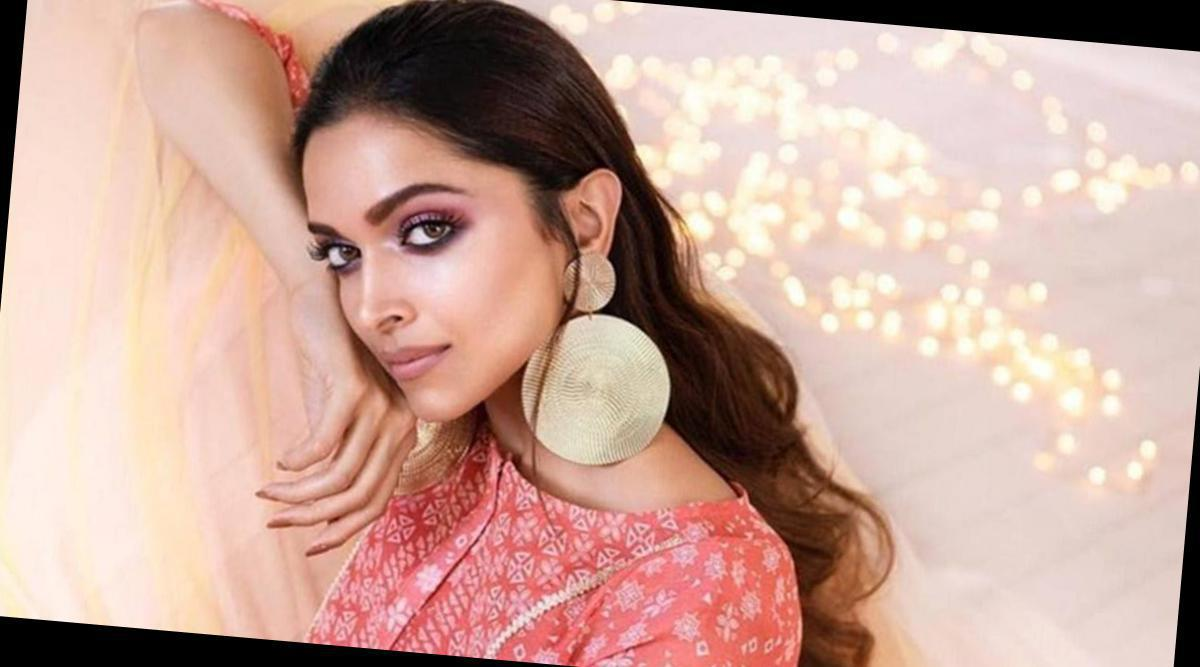Sober: (303, 152, 551, 389)
